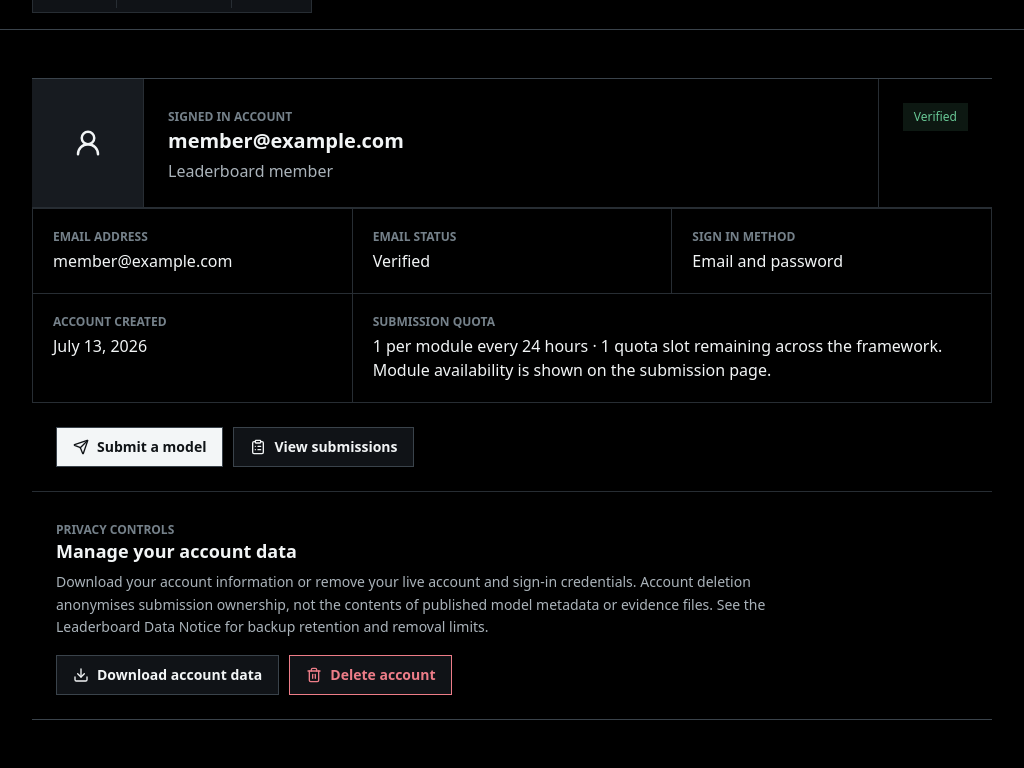
profile quota summary › requires explicit confirmation before deleting an account
(page scrolled)
Click the button "Delete account": x=371, y=675 [289, 655, 452, 695]
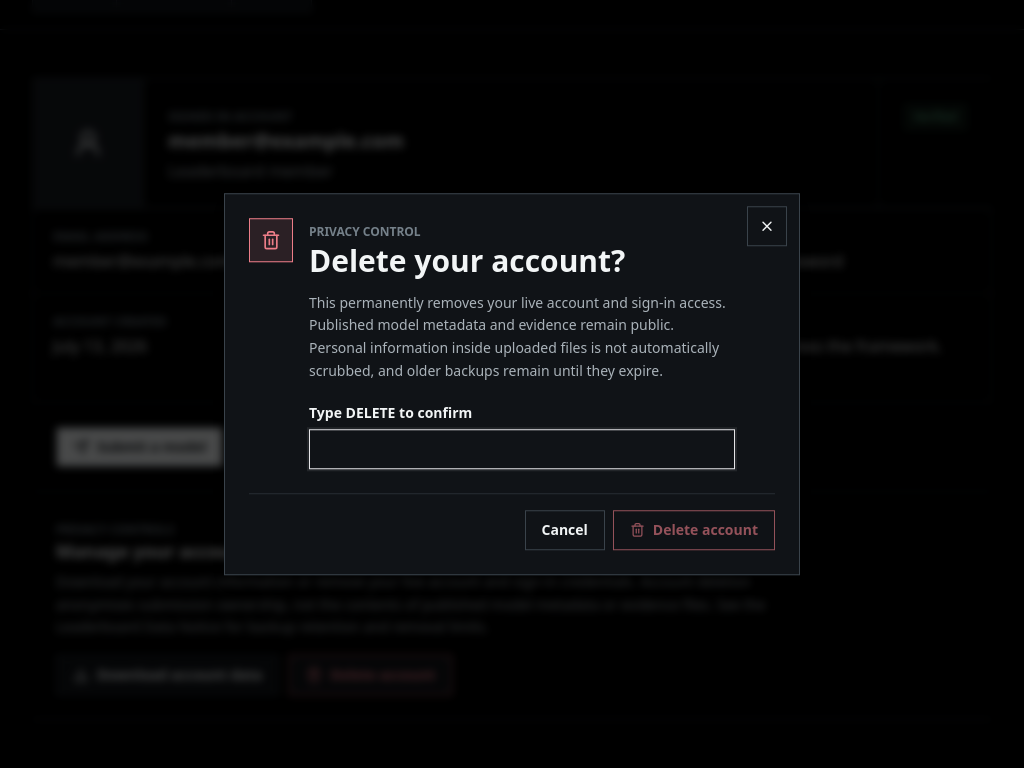
Expected: the dialog shows "Personal information inside uploaded files is not automatically scrubbed", [309, 293, 726, 380]
Expected: the dialog shows "older backups remain until they expire", [309, 293, 726, 380]
Expected: the button "Delete account" is disabled, [613, 510, 775, 550]
In the field labelled "Type DELETE to confirm": x=522, y=449 [309, 429, 735, 469], type "DELETE"
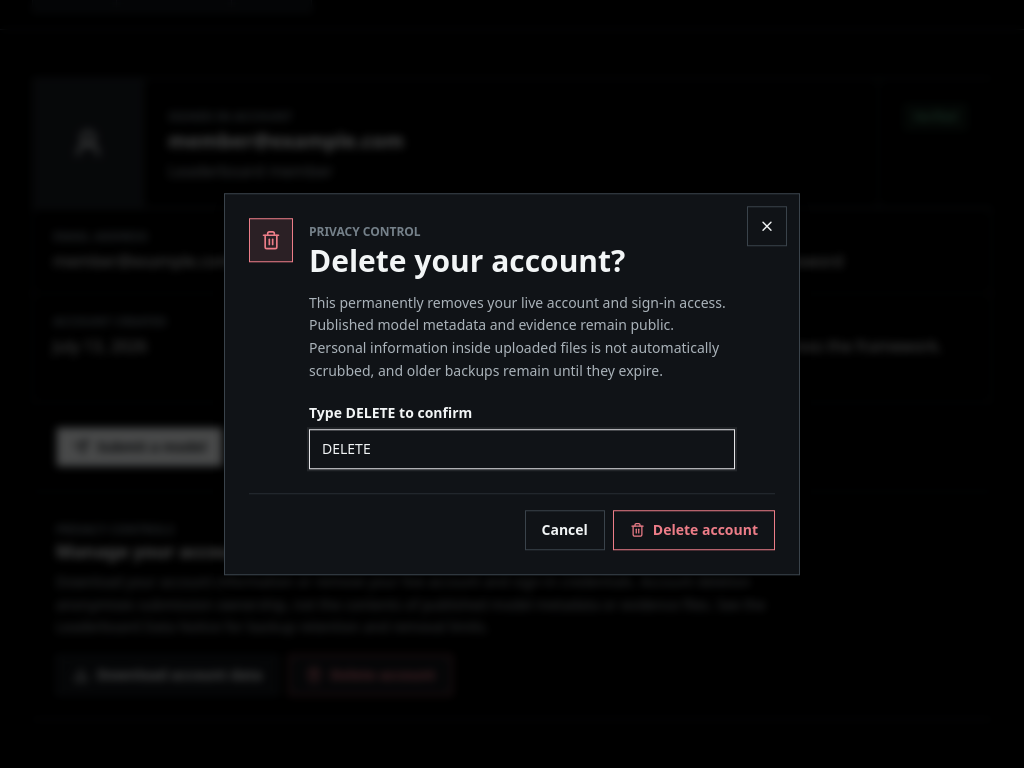
Expected: the button "Delete account" is enabled
Click the button "Delete account": x=694, y=530 [613, 510, 775, 550]
(page scrolled)
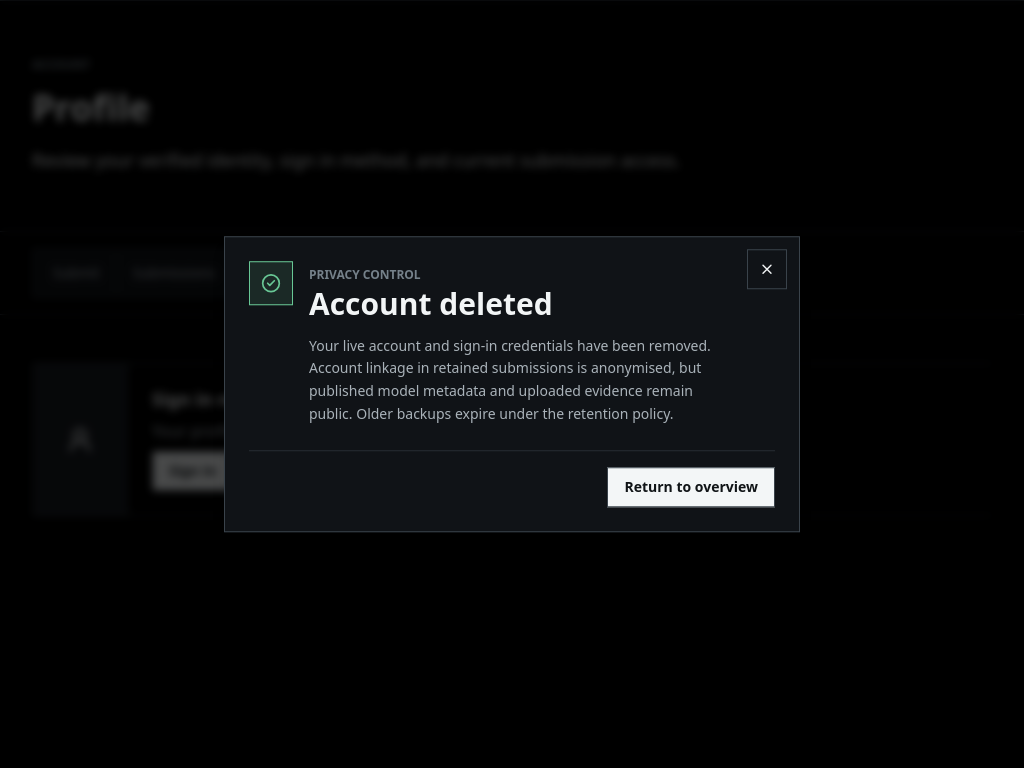
Expected: the heading "Account deleted" is shown, [309, 283, 553, 324]
